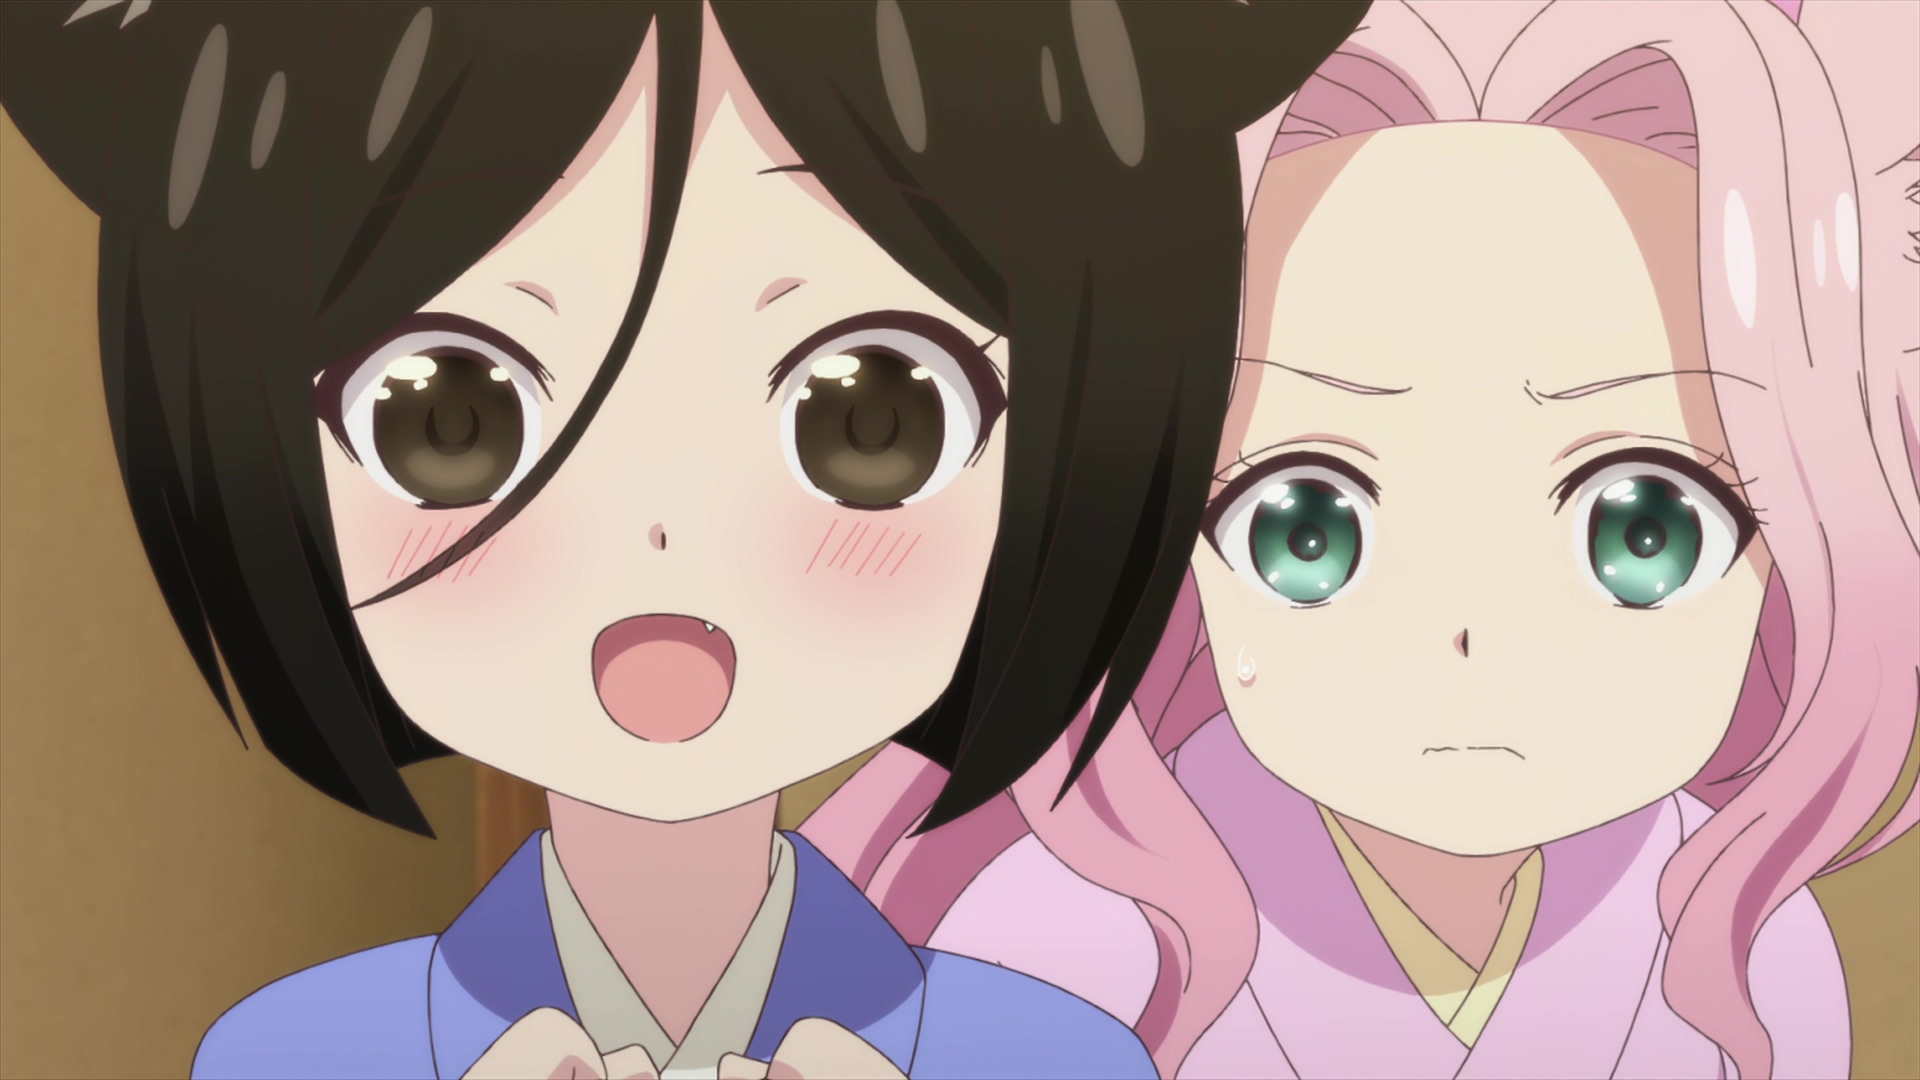其他: (1, 1, 1371, 1080)
莲: (799, 1, 1920, 1080)
